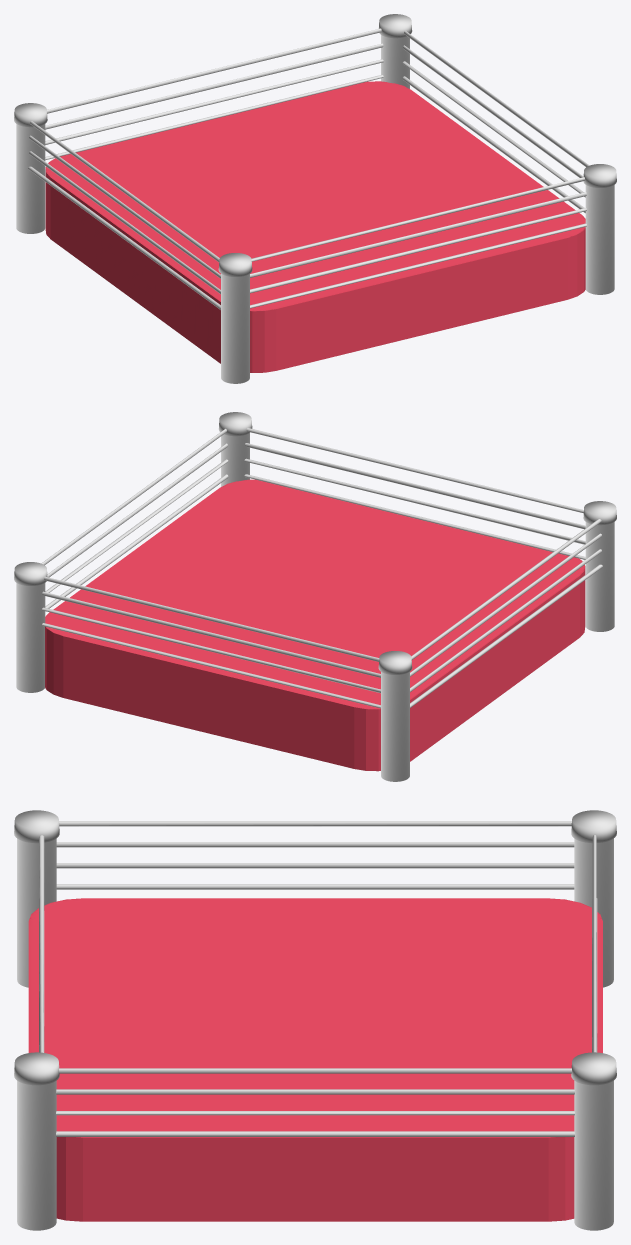
Rendered from ring.fbx.
The picture shows the model from 3 angles, top to bottom: view 1: azimuth 30°, elevation 25°; view 2: azimuth 150°, elevation 25°; view 3: azimuth 270°, elevation 25°; orthographic projection. The views are drawn at different scales.
Visible parts, largest first — view 1: Ring, ropes, Cylinder.001, Cylinder, Cylinder.003, Cylinder.002; view 2: Ring, ropes, Cylinder.003, Cylinder.002, Cylinder, Cylinder.001; view 3: Ring, ropes, Cylinder.001, Cylinder.002, Cylinder.003, Cylinder.
Part boxes in pixels (box(x1,y1,x2,y2)): Ring: box(45, 81, 585, 372); ropes: box(28, 28, 589, 309); Cylinder.001: box(583, 164, 616, 294); Cylinder: box(218, 253, 252, 383); Cylinder.003: box(14, 103, 47, 233); Cylinder.002: box(378, 14, 412, 88); Ring: box(45, 479, 585, 771); ropes: box(41, 428, 602, 708); Cylinder.003: box(378, 651, 412, 781); Cylinder.002: box(14, 562, 47, 692); Cylinder: box(583, 501, 616, 631); Cylinder.001: box(218, 412, 252, 486); Ring: box(28, 898, 602, 1221); ropes: box(39, 821, 597, 1136); Cylinder.001: box(14, 1052, 59, 1230); Cylinder.002: box(571, 1052, 616, 1230); Cylinder.003: box(571, 810, 616, 987); Cylinder: box(14, 810, 59, 987).
Bounding box in the file's own units: 1334 × 382 × 1300.
Materials: 4 (1 with a texture image).
